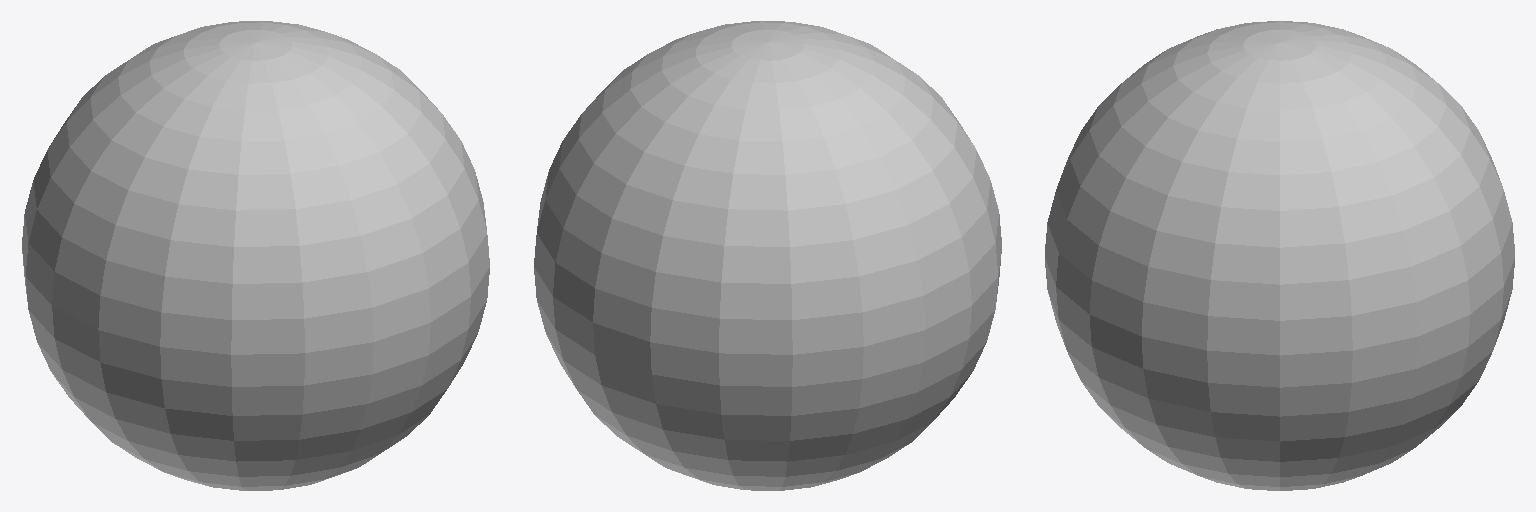
Rendered from sophie4.obj.
The picture shows the model from 3 angles: view 1: azimuth 30°, elevation 25°; view 2: azimuth 150°, elevation 25°; view 3: azimuth 270°, elevation 25°; orthographic projection.
Parts seen in each view (by area): view 1: pSphere1; view 2: pSphere1; view 3: pSphere1.
Part boxes in pixels (left/top/right/bottom): pSphere1: left=22, top=21, right=489, bottom=490; pSphere1: left=534, top=21, right=1001, bottom=490; pSphere1: left=1045, top=21, right=1514, bottom=490.
Size of the model in its own units: 2.24 by 2.24 by 2.24.